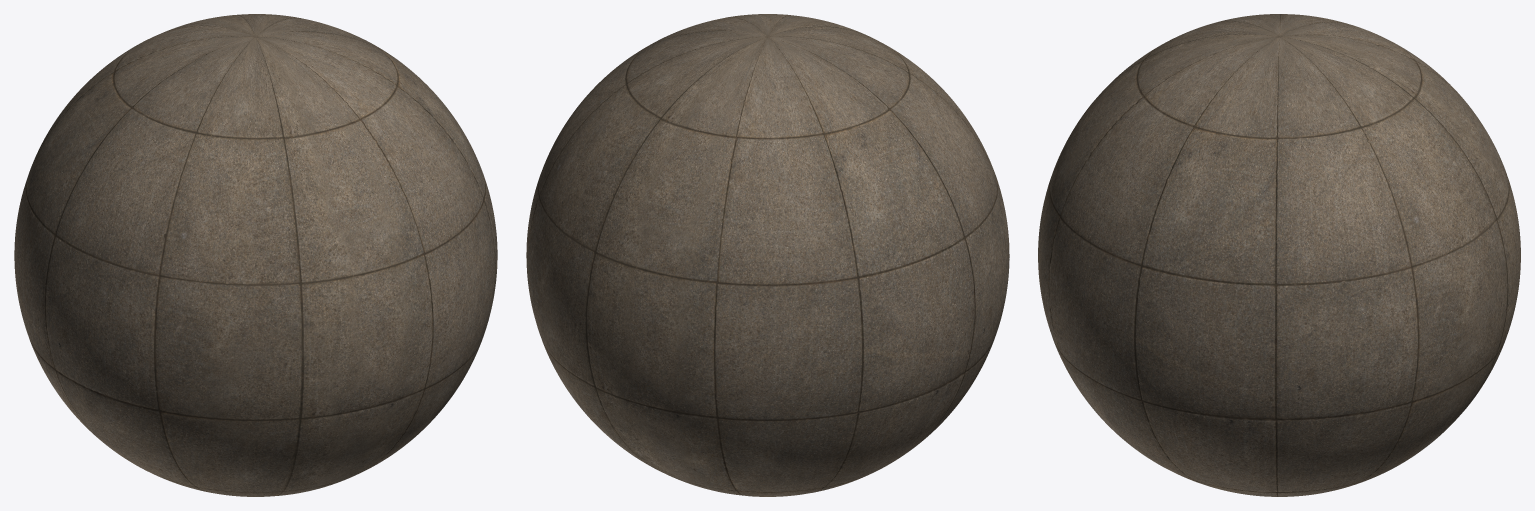
File: granite_tile_04_2k.gltf
3 views of the same model, side by side, from view 1: azimuth 30°, elevation 25°; view 2: azimuth 150°, elevation 25°; view 3: azimuth 270°, elevation 25° (orthographic).
Visible parts, largest first — view 1: sphere_gltf; view 2: sphere_gltf; view 3: sphere_gltf.
Boxes of the visible parts, <box> form: sphere_gltf: <box>14,14,497,496</box>; sphere_gltf: <box>526,14,1009,496</box>; sphere_gltf: <box>1038,14,1520,496</box>.
Bounding box in the file's own units: 2 × 2 × 2.
Materials: 1 (1 with a texture image).
